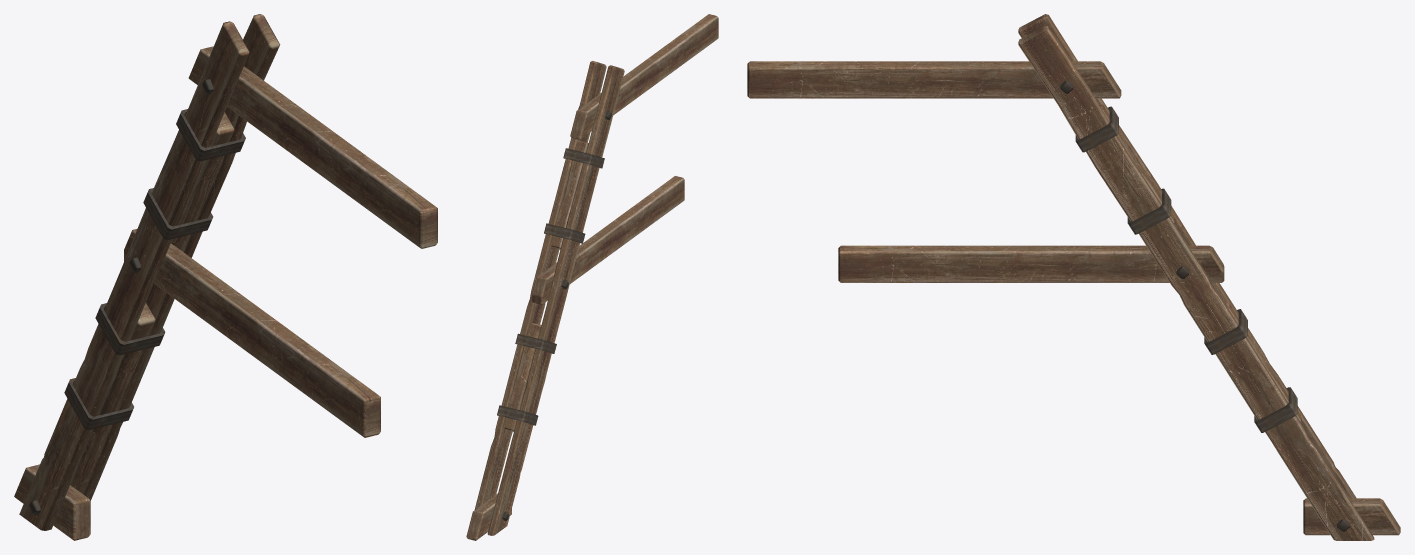
The picture shows the model from 3 angles, left to right: view 1: azimuth 30°, elevation 25°; view 2: azimuth 150°, elevation 25°; view 3: azimuth 270°, elevation 25°; orthographic projection. The views are drawn at different scales.
Parts seen in each view (by area): view 1: SM_DR_Wood_Support_01_LOD0; view 2: SM_DR_Wood_Support_01_LOD0; view 3: SM_DR_Wood_Support_01_LOD0.
Part boxes in pixels (x1,y1,x2,y2): SM_DR_Wood_Support_01_LOD0: (14,14,437,540); SM_DR_Wood_Support_01_LOD0: (466,14,718,540); SM_DR_Wood_Support_01_LOD0: (747,14,1400,540).
Bounding box in the file's own units: 0.677 × 8.04 × 9.3.
2 materials, 2 textured.
